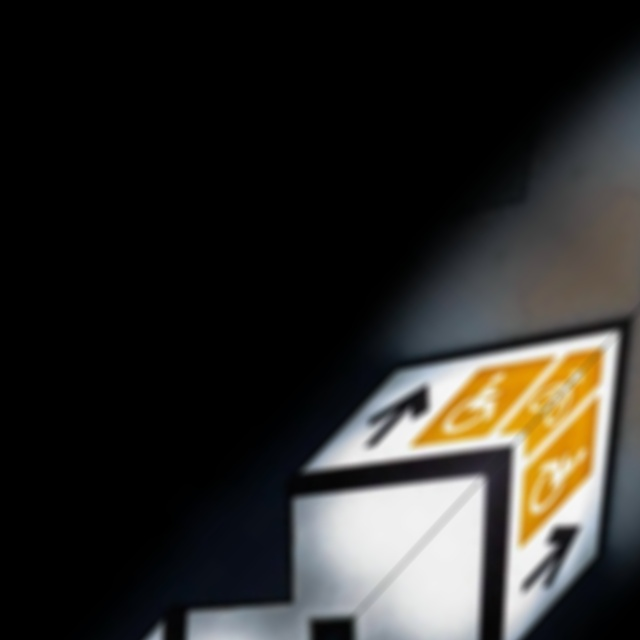ISA: (438, 362, 527, 453), (508, 427, 597, 518)
